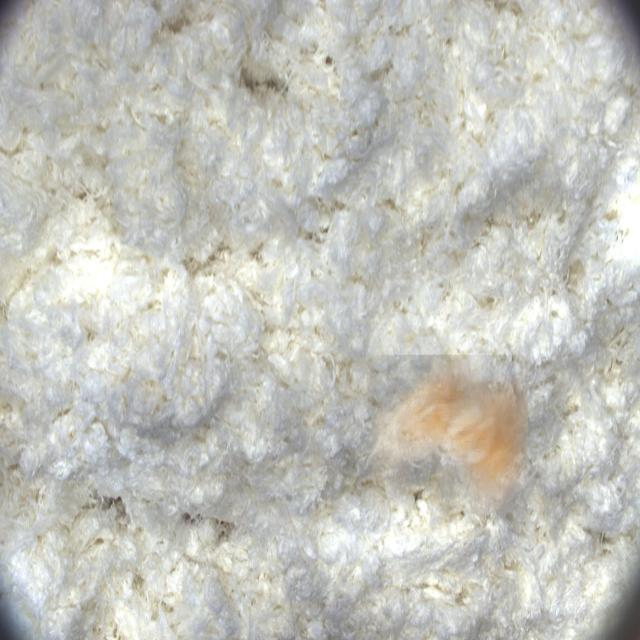dust: (367, 355, 528, 514)
